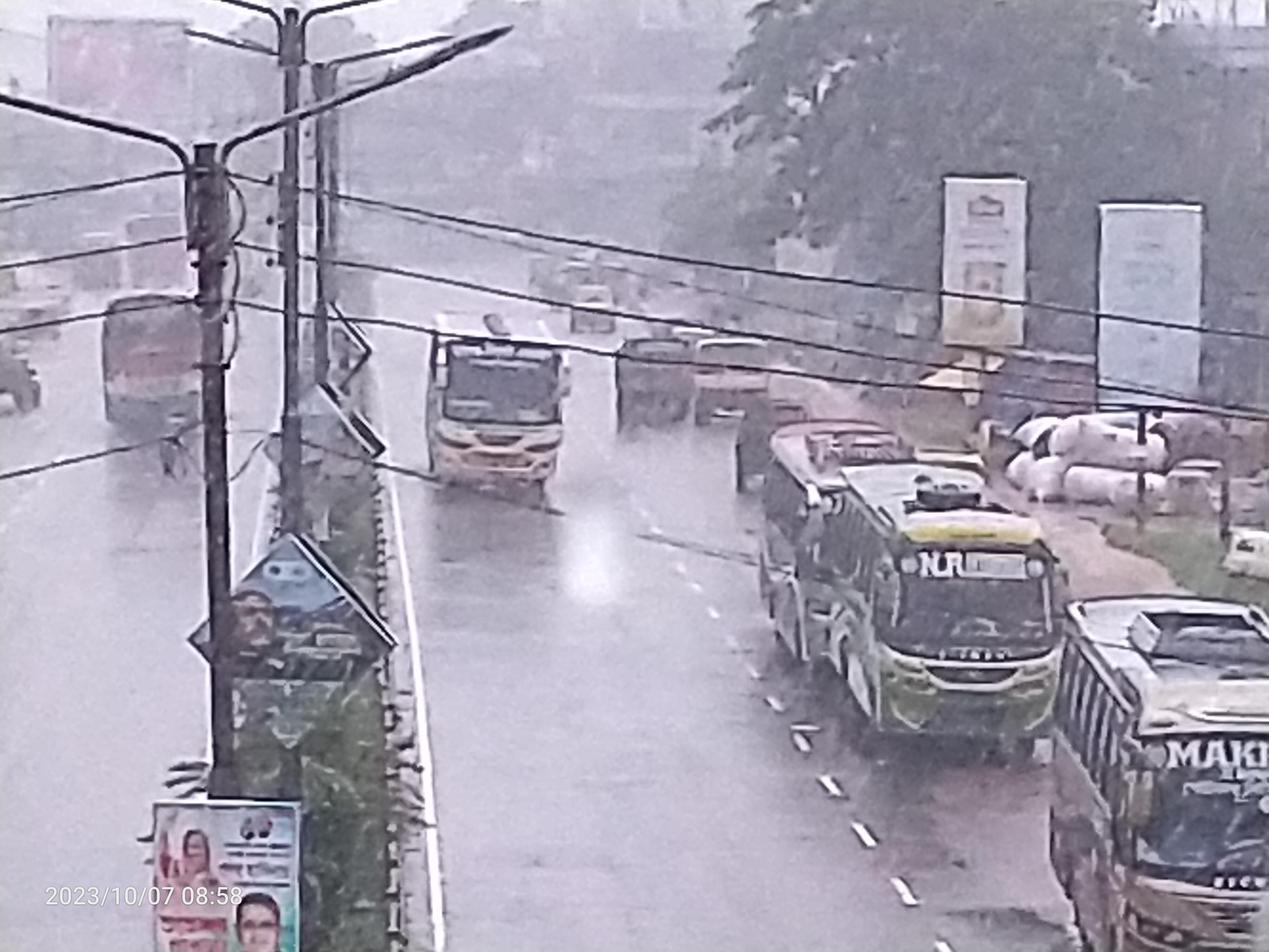Bus: (1021, 574, 1269, 952), (814, 454, 1085, 793), (396, 301, 580, 533), (89, 276, 230, 461), (764, 405, 853, 669)
